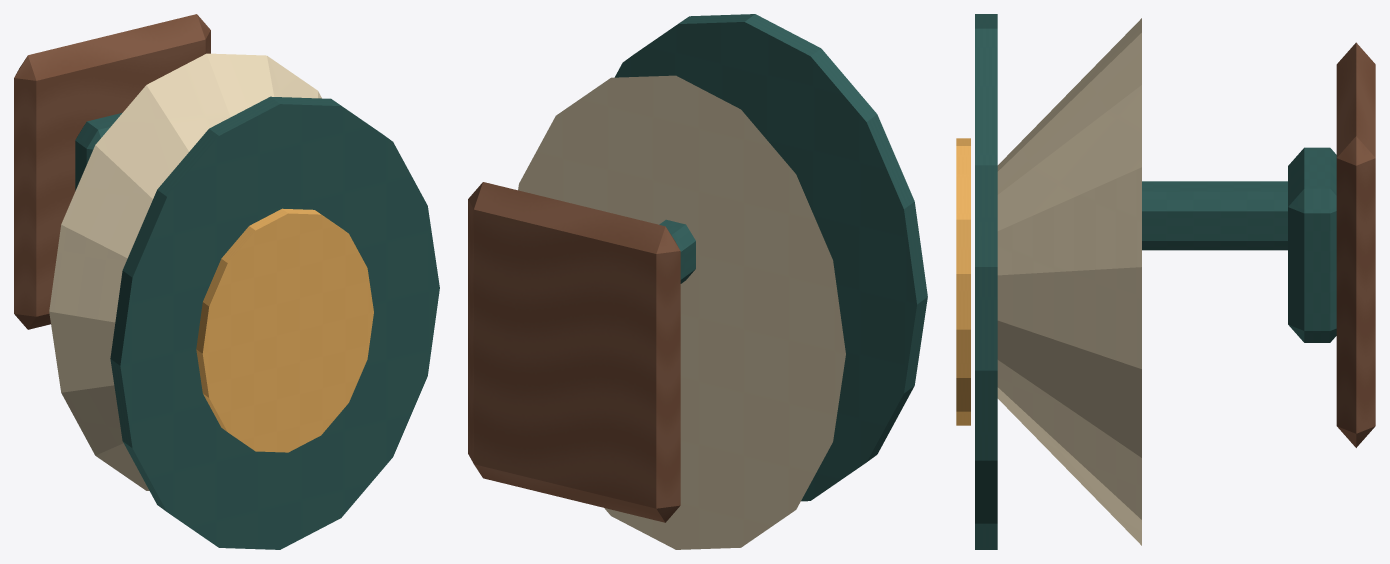
The model's file is P13_atlas_v1.glb.
The picture shows the model from 3 angles, left to right: view 1: azimuth 30°, elevation 25°; view 2: azimuth 150°, elevation 25°; view 3: azimuth 270°, elevation 25°; orthographic projection. The views are drawn at different scales.
Visible parts, largest first — view 1: P13_StaticBody, P13_Diffuser; view 2: P13_StaticBody; view 3: P13_StaticBody, P13_Diffuser.
Part boxes in pixels (box(x1,y1,x2,y2)): P13_StaticBody: box(14, 14, 439, 549); P13_Diffuser: box(196, 208, 373, 452); P13_StaticBody: box(468, 14, 927, 549); P13_StaticBody: box(975, 14, 1375, 549); P13_Diffuser: box(956, 138, 970, 425).
Bounding box in the file's own units: 1.5 × 2 × 1.5.
Materials: 1 (1 with a texture image).
